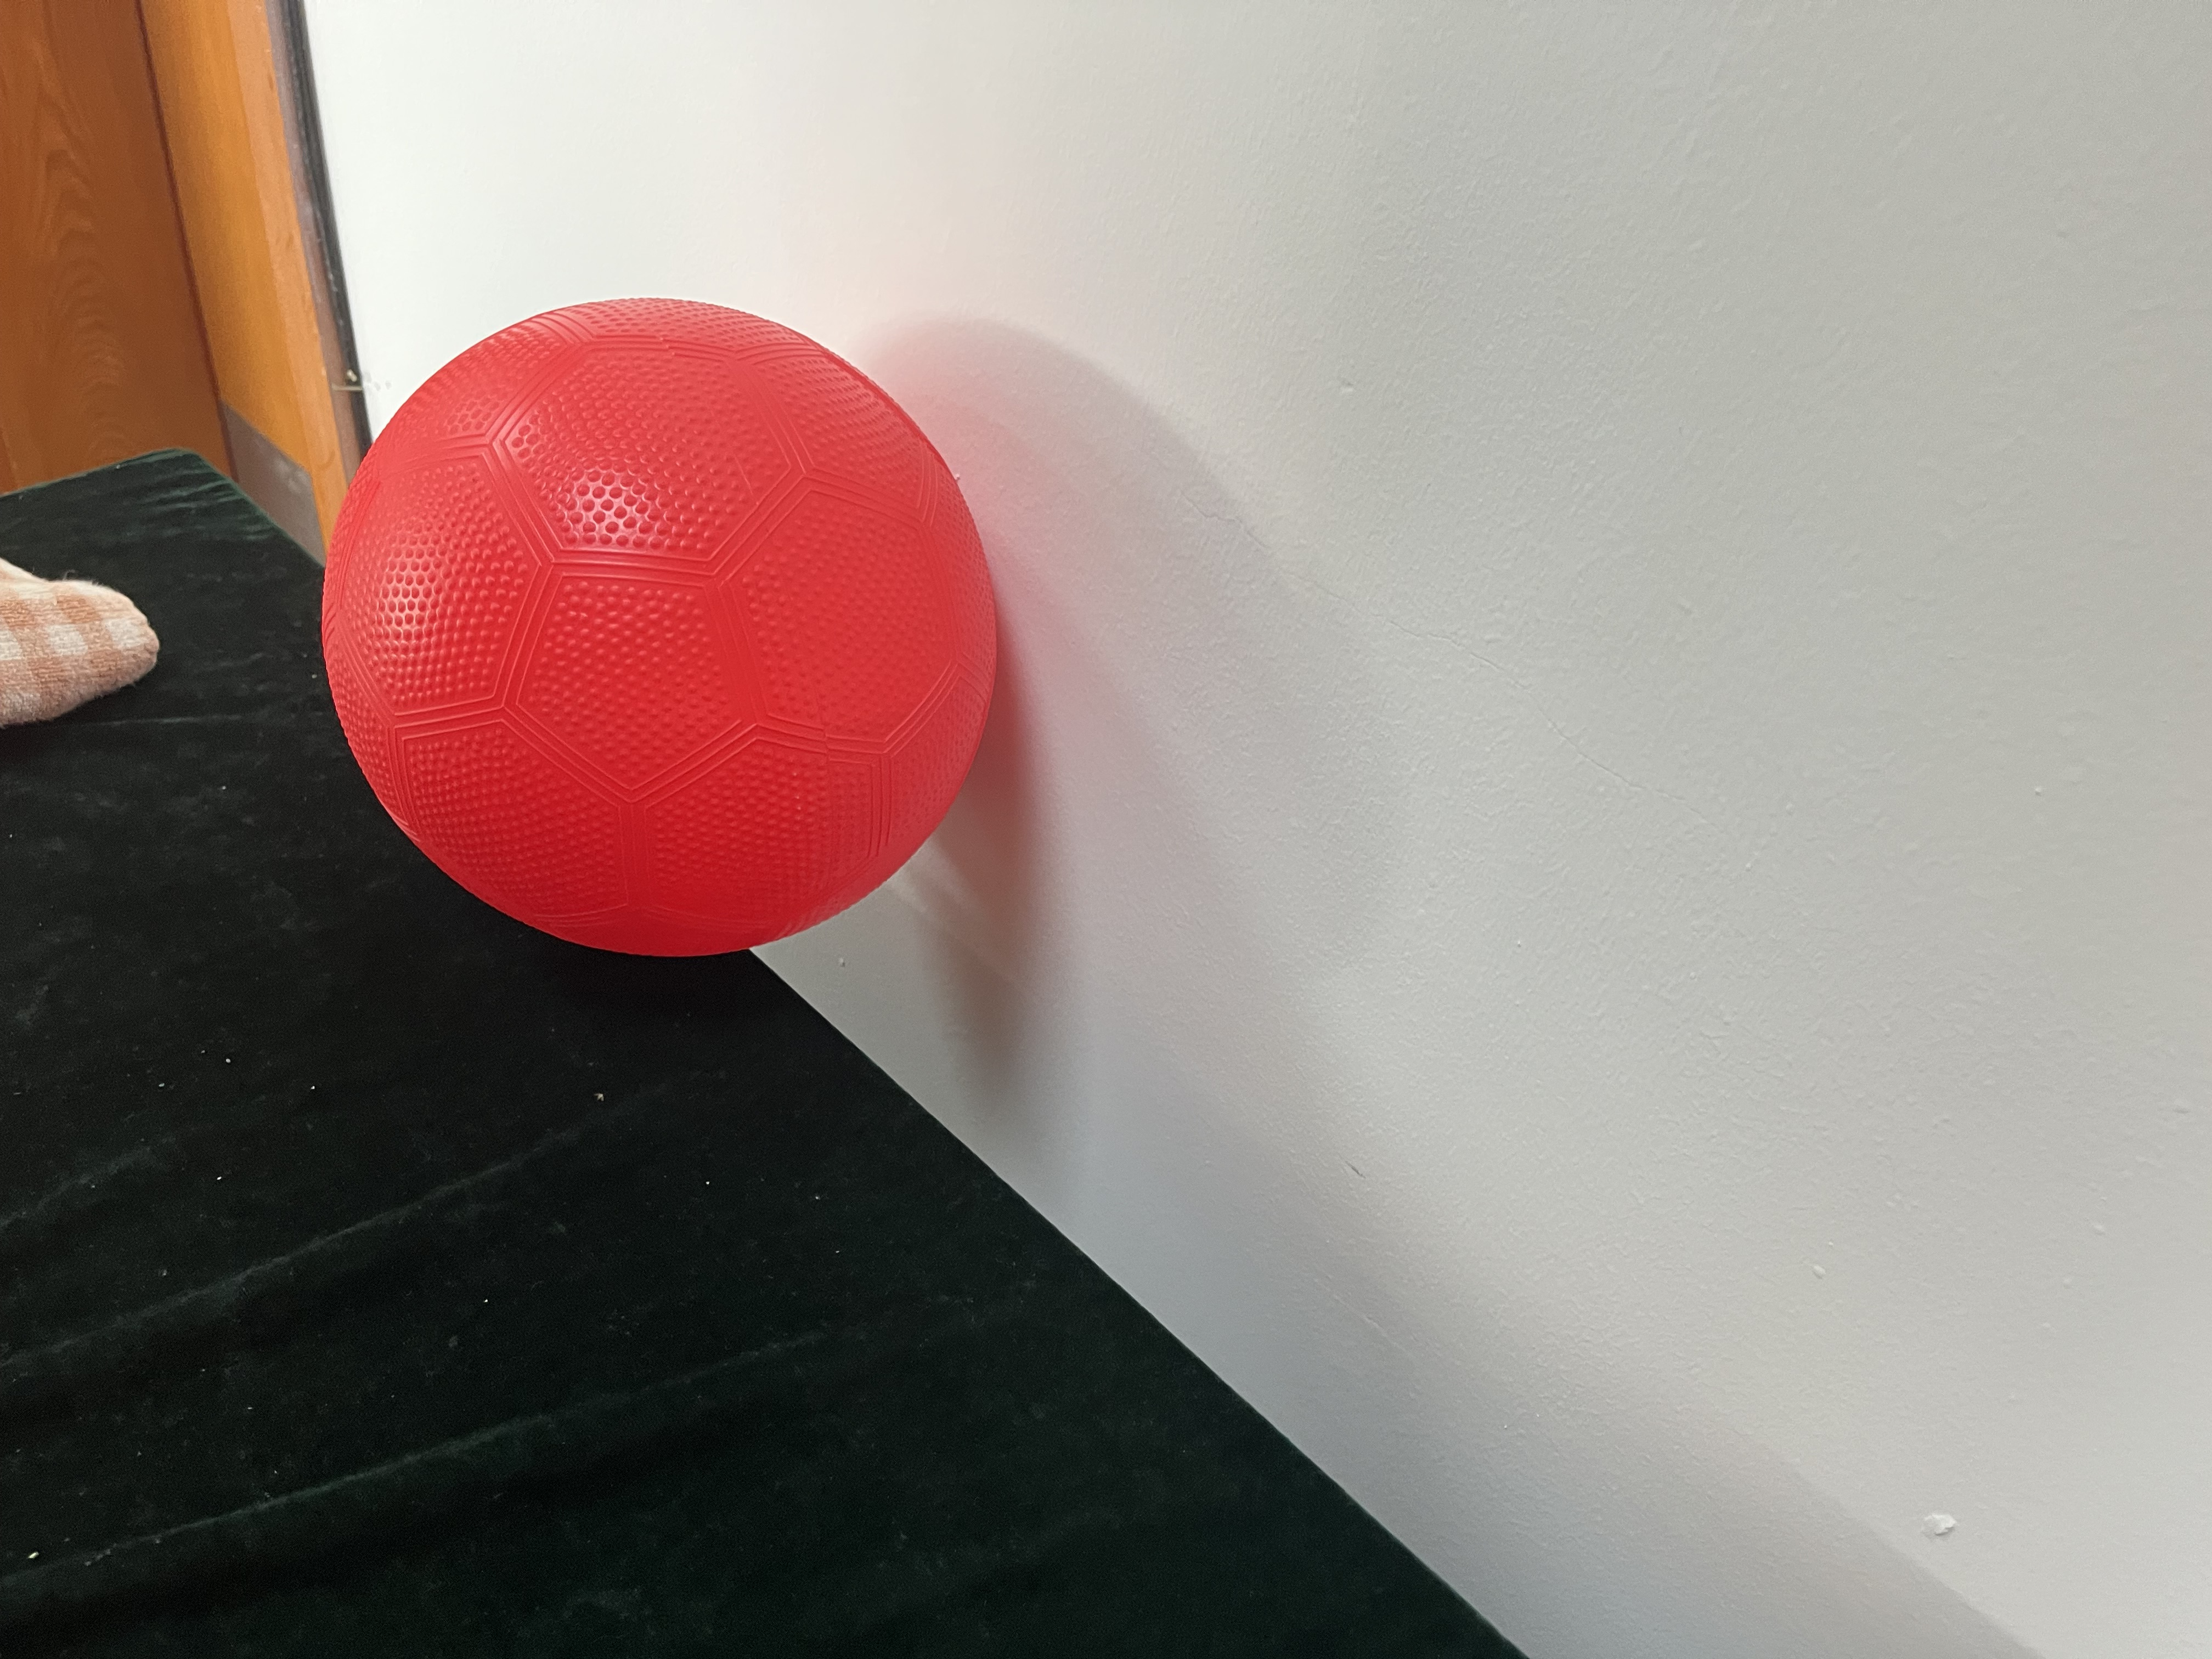red: (289, 288, 1022, 972)
